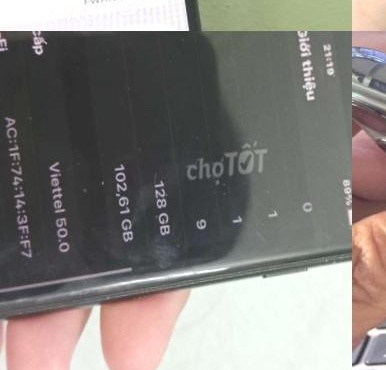scratch: (0, 268, 236, 312)
